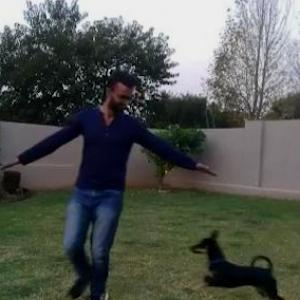land: (18, 75, 209, 286)
